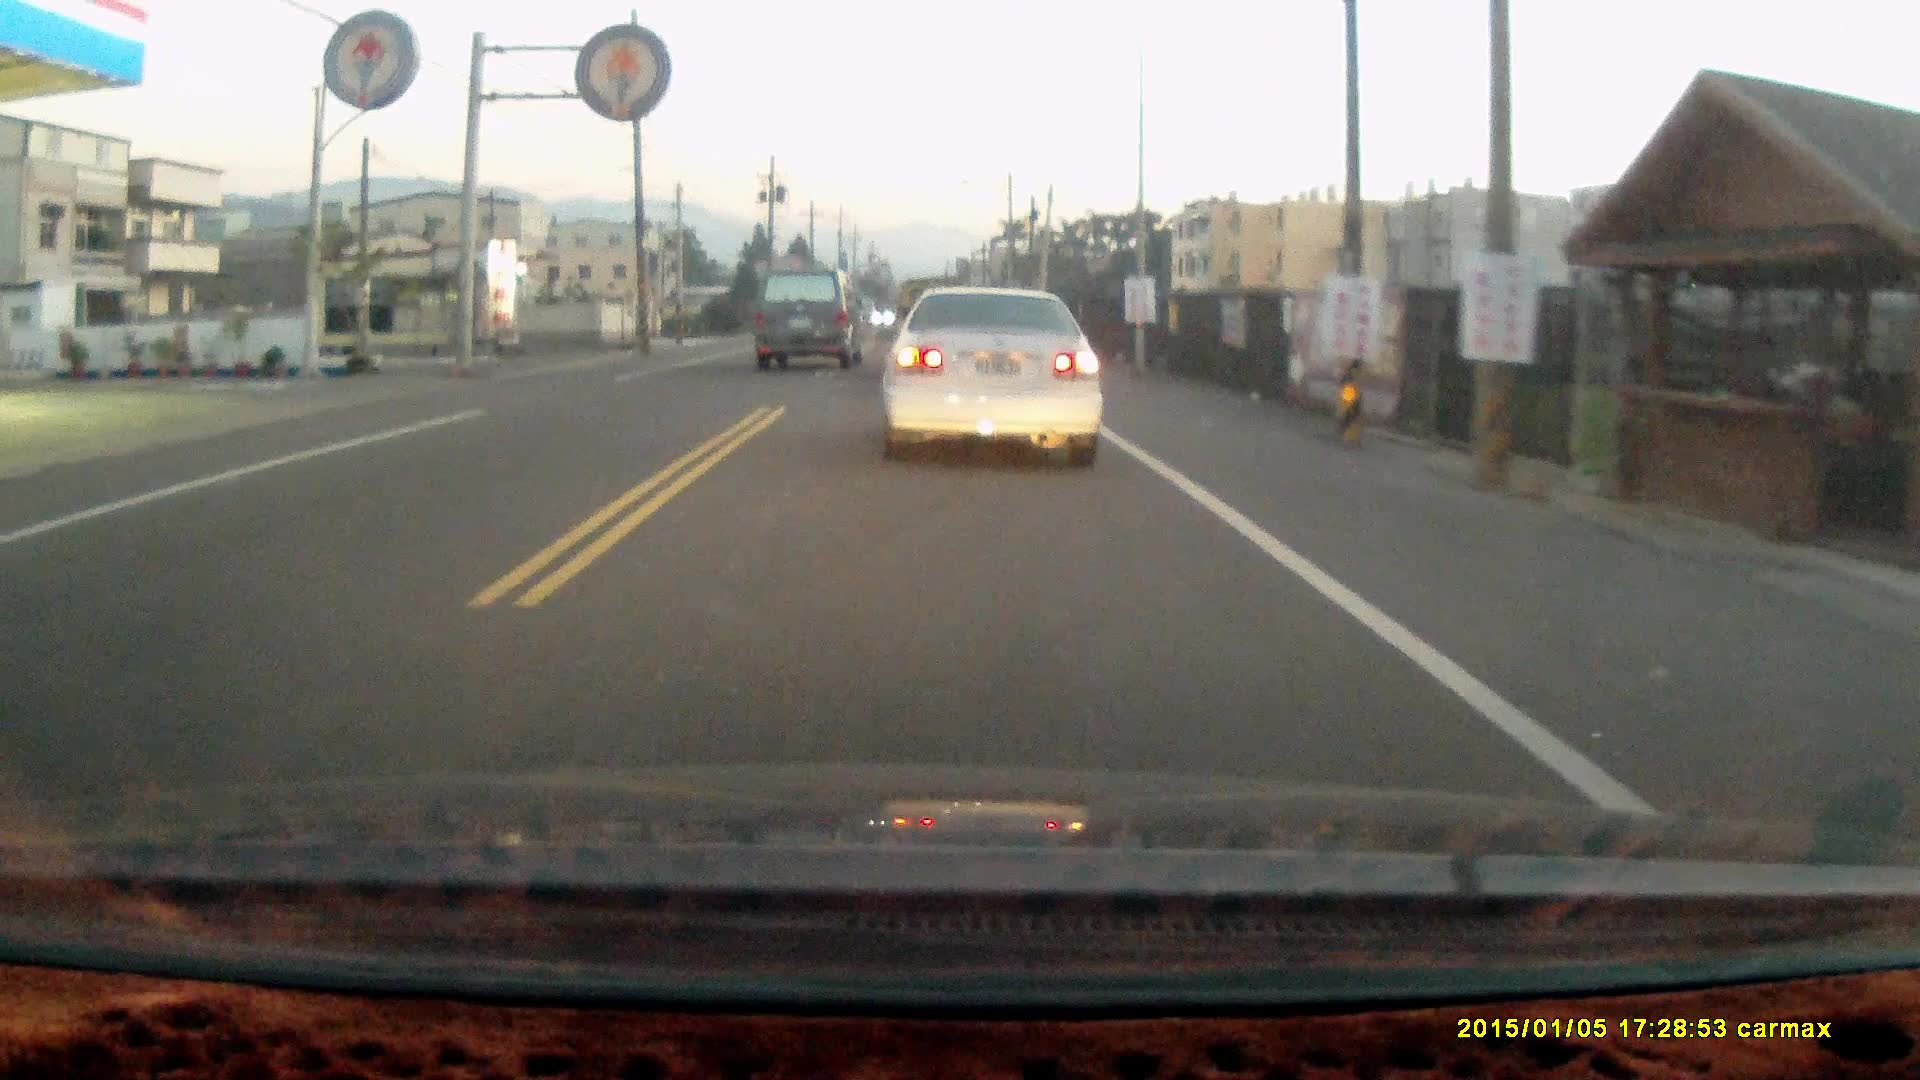pedestrian: (1797, 362, 1865, 499)
vehicle: (876, 281, 1105, 469), (746, 267, 865, 376)
